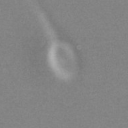normal: (24, 1, 58, 42)
